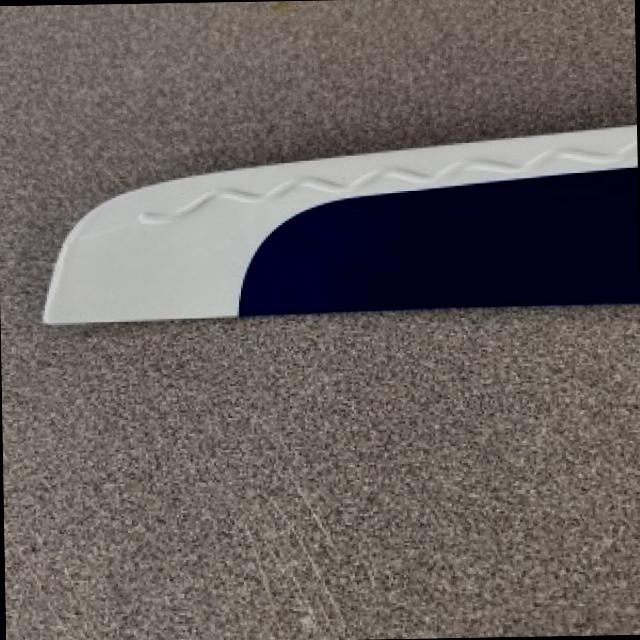healthy: (45, 123, 640, 318)
